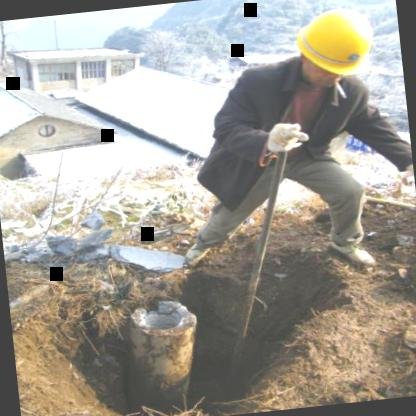helmet: (282, 2, 382, 91)
